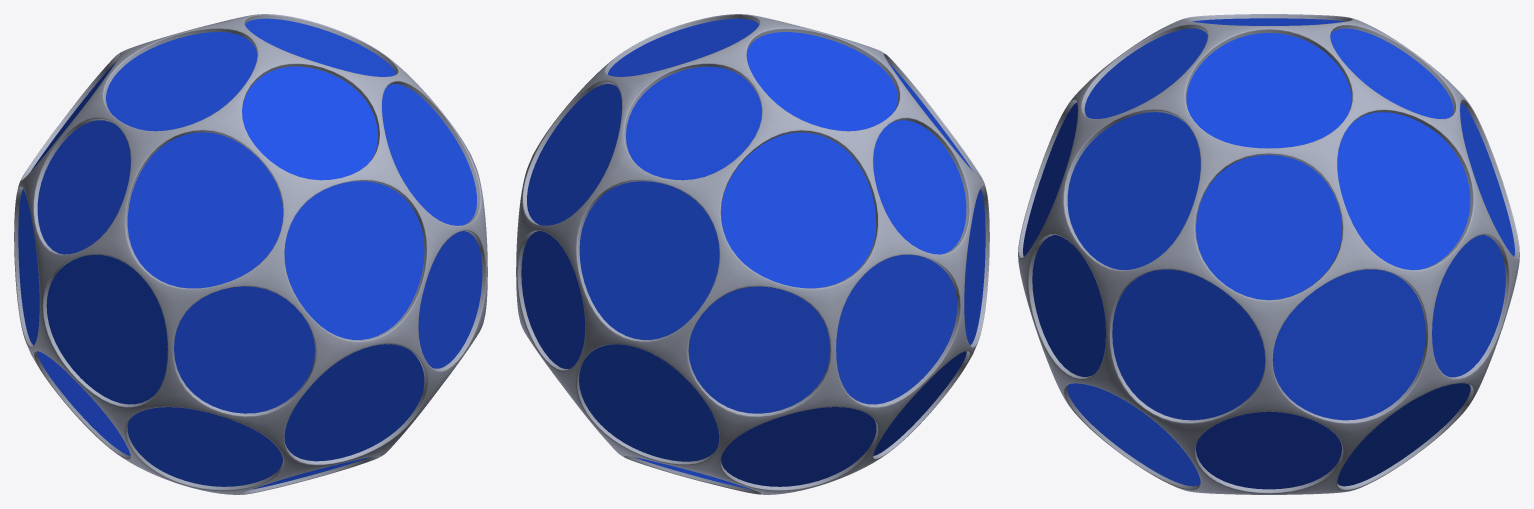
The model's file is Detail_Ball.fbx.
The picture shows the model from 3 angles, left to right: view 1: azimuth 30°, elevation 25°; view 2: azimuth 150°, elevation 25°; view 3: azimuth 270°, elevation 25°; orthographic projection. The views are drawn at different scales.
Visible parts, largest first — view 1: Detail_Ball; view 2: Detail_Ball; view 3: Detail_Ball.
Part boxes in pixels (box(x1,y1,x2,y2)): Detail_Ball: box(14, 14, 487, 494); Detail_Ball: box(516, 14, 989, 494); Detail_Ball: box(1018, 14, 1519, 494).
Size of the model in its own units: 180 by 180 by 180.
Materials: 1 (1 with a texture image).
